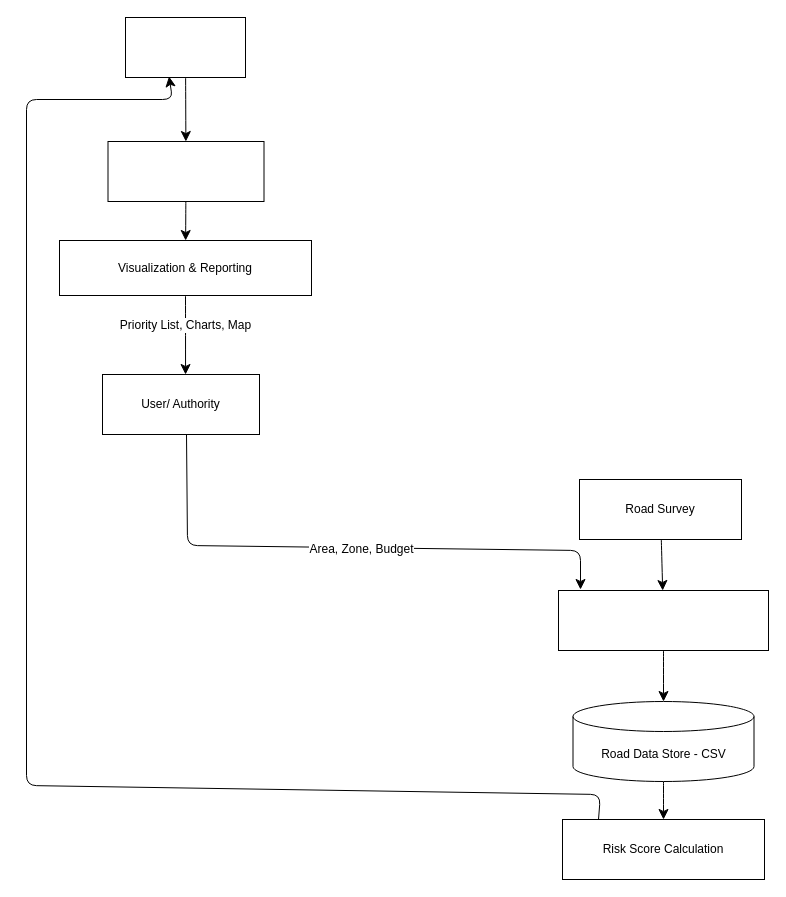
Some shapes in this 786 by 897 pixel diagram are drawn without their labels. Here are the shapes that lost their labels. From the top down, the centre of each, then its label:
pixel 185 47: Road Ranking
pixel 185 171: Budget Allocation
pixel 663 620: Data Input & Validation
